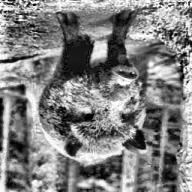boar: (37, 10, 149, 167)
